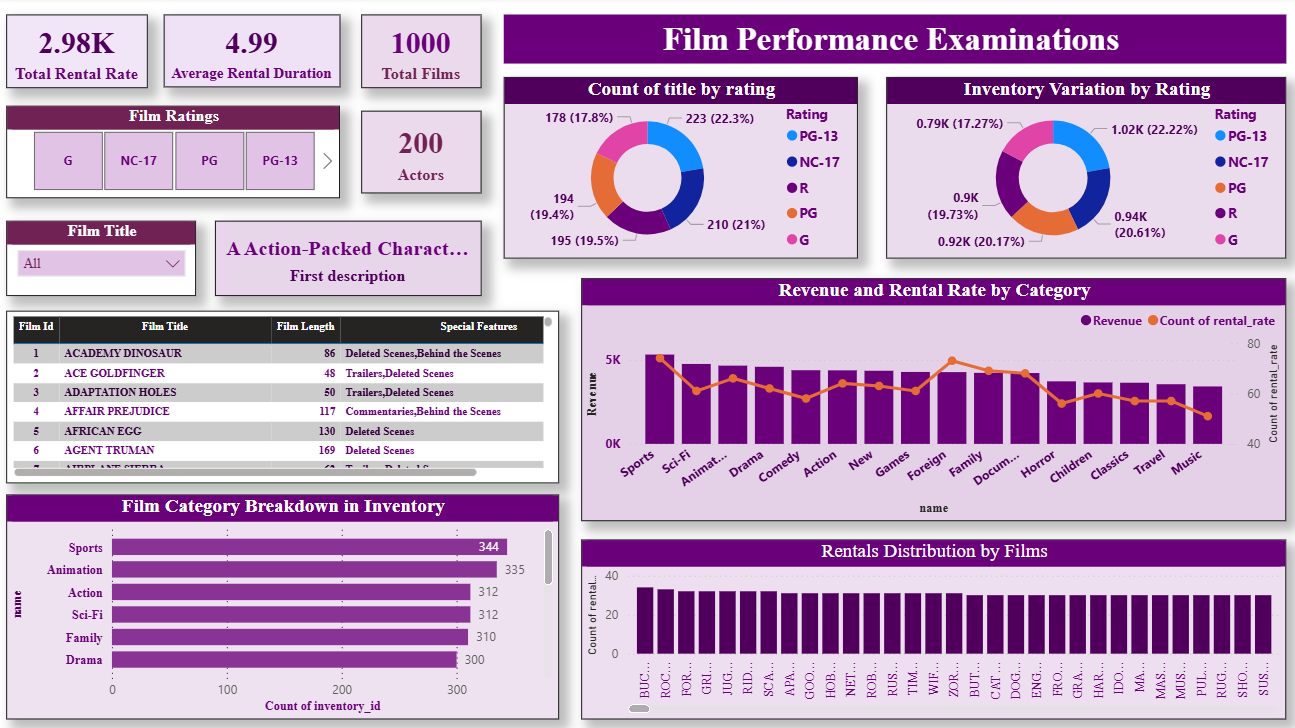

What the dashboard file says about the page in this screenshot:
{"tool":"powerbi","page":{"name":"Flim Analysis","canvas":[1280,720],"ordinal":5},"visuals":[{"type":"card","fields":{"Values":["Sum(film.rental_rate)"]},"box":[11,17.1,138.2,72.1],"z":0},{"type":"card","fields":{"Values":["Avg(film.rental_duration)"]},"box":[165.1,17.1,172.4,70.9],"z":1000},{"type":"card","fields":{"Values":["CountNonNull(film.film_id)"]},"box":[358.3,17.1,117.4,72.1],"z":2000},{"type":"textbox","box":[497.7,17.1,765.5,47.7],"z":3000},{"type":"slicer","title":"Film Ratings","fields":{"Values":["film.rating"]},"box":[11,106.4,326.5,90.5],"z":4000},{"type":"card","fields":{"Values":["CountNonNull(actor.actor_id)"]},"box":[358.3,111.3,117.4,80.7],"z":5000},{"type":"donutChart","fields":{"Category":["film.rating"],"Y":["CountNonNull(film.title)"]},"box":[497.7,78.3,346.1,177.3],"z":6000},{"type":"slicer","title":"Film Title","fields":{"Values":["film.title"]},"box":[11,218.9,185.9,73.4],"z":7000},{"type":"card","fields":{"Values":["Min(film.description)"]},"box":[215.2,218.9,260.5,73.4],"z":8000},{"type":"donutChart","title":" Inventory Variation by Rating","fields":{"Category":["film.rating"],"Y":["CountNonNull(inventory.inventory_id)"]},"box":[871.9,78.3,391.3,177.3],"z":9000},{"type":"tableEx","fields":{"Values":["film.film_id","film.title","Sum(film.length)","film.special_features"]},"box":[11,306.9,540.5,168.8],"z":10000},{"type":"lineStackedColumnComboChart","title":"Revenue and Rental Rate by Category","fields":{"Category":["category.name"],"Y":["payment.Revenue"],"Y2":["CountNonNull(film.rental_rate)"]},"box":[573.5,275.1,689.7,237.2],"z":11000},{"type":"lineClusteredColumnComboChart","title":"Rentals Distribution by Films","fields":{"Category":["film.title"],"Y":["CountNonNull(payment.rental_id)"]},"box":[573.5,530.7,689.7,176.1],"z":12000},{"type":"clusteredBarChart","title":"Film Category Breakdown in Inventory","fields":{"Category":["category.name"],"Y":["Count(inventory.inventory_id)"]},"box":[11,486.7,540.5,220.1],"z":13000}]}

Visuals, with their boxes in screenshot pixels (x1, y1, x2, y2), scaled from the page's 1280x720 canvas onto the 1295x728 screenshot:
card - Sum(film.rental_rate): crop(11, 17, 151, 90)
card - Avg(film.rental_duration): crop(167, 17, 341, 89)
card - CountNonNull(film.film_id): crop(362, 17, 481, 90)
textbox: crop(504, 17, 1278, 66)
"Film Ratings" slicer: crop(11, 108, 341, 199)
card - CountNonNull(actor.actor_id): crop(362, 113, 481, 194)
donutChart - film.rating x CountNonNull(film.title): crop(504, 79, 854, 258)
"Film Title" slicer: crop(11, 221, 199, 296)
card - Min(film.description): crop(218, 221, 481, 296)
" Inventory Variation by Rating" donutChart: crop(882, 79, 1278, 258)
tableEx - film.film_id x film.title: crop(11, 310, 558, 481)
"Revenue and Rental Rate by Category" lineStackedColumnComboChart: crop(580, 278, 1278, 518)
"Rentals Distribution by Films" lineClusteredColumnComboChart: crop(580, 537, 1278, 715)
"Film Category Breakdown in Inventory" clusteredBarChart: crop(11, 492, 558, 715)
